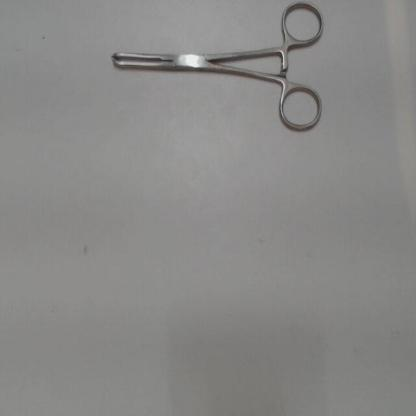Allis Tissue Forceps: (101, 1, 327, 147)
